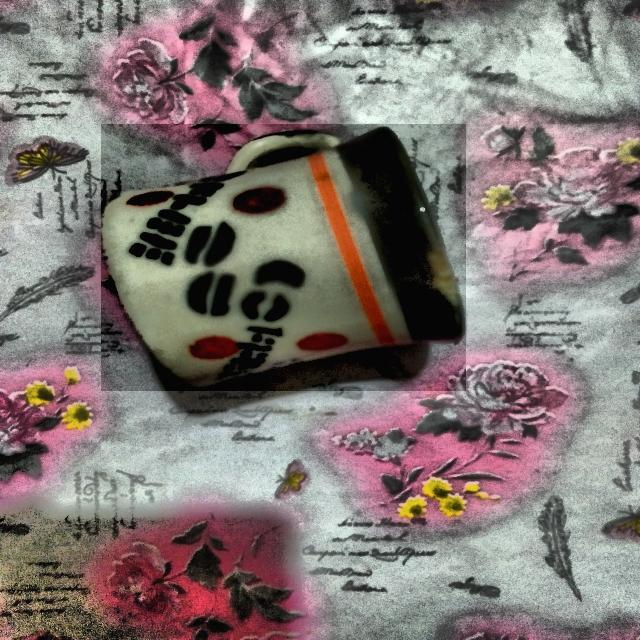anorganik: (101, 125, 466, 390)
